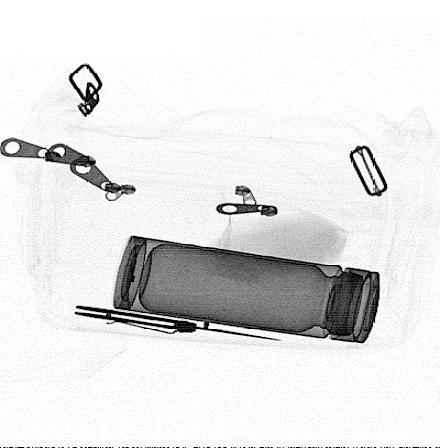Knife: (73, 304, 284, 343)
